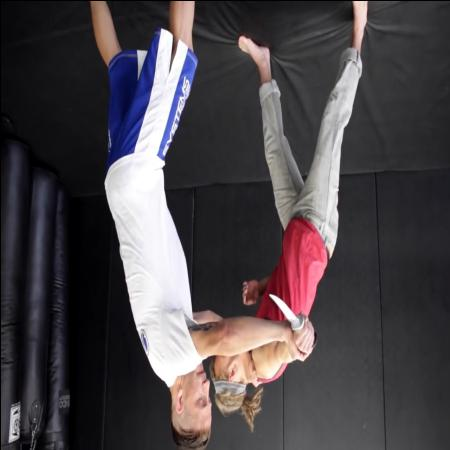long weapon: (262, 285, 318, 351)
